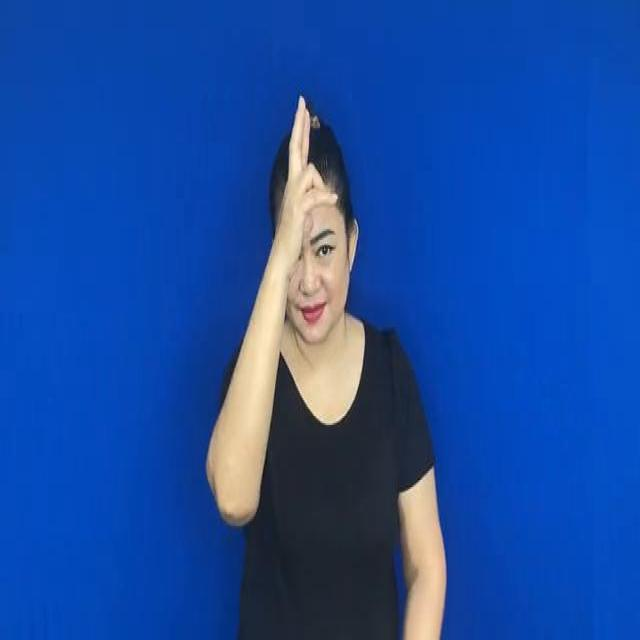chicken: (282, 96, 336, 274)
